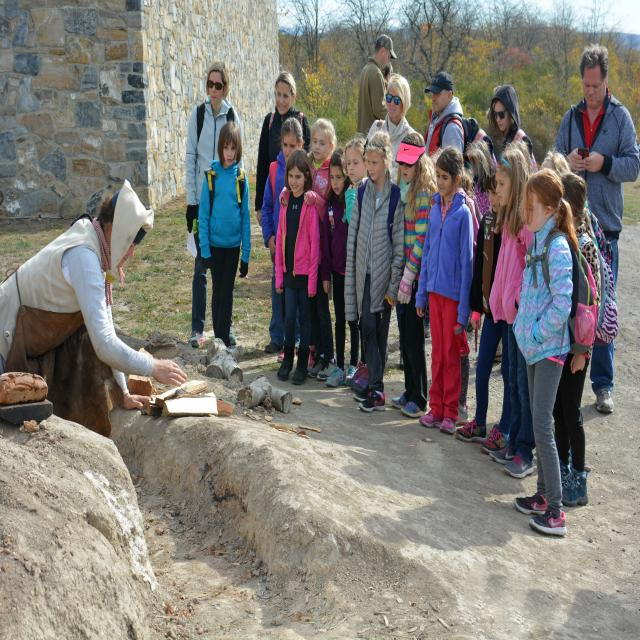body: (0, 178, 189, 412), (510, 167, 602, 543), (554, 42, 639, 415), (343, 128, 408, 416), (553, 169, 607, 502), (185, 59, 244, 350), (415, 146, 474, 434), (452, 174, 512, 452), (489, 142, 537, 481), (278, 115, 338, 382), (254, 71, 310, 355), (336, 484, 532, 559), (196, 119, 252, 354), (271, 145, 324, 389), (392, 131, 436, 417), (260, 116, 306, 356), (320, 148, 360, 387), (453, 185, 485, 430), (344, 136, 372, 384), (364, 72, 418, 190), (486, 85, 538, 177), (356, 33, 398, 140), (423, 71, 464, 163), (468, 146, 492, 277), (538, 150, 570, 175), (381, 57, 401, 88)
